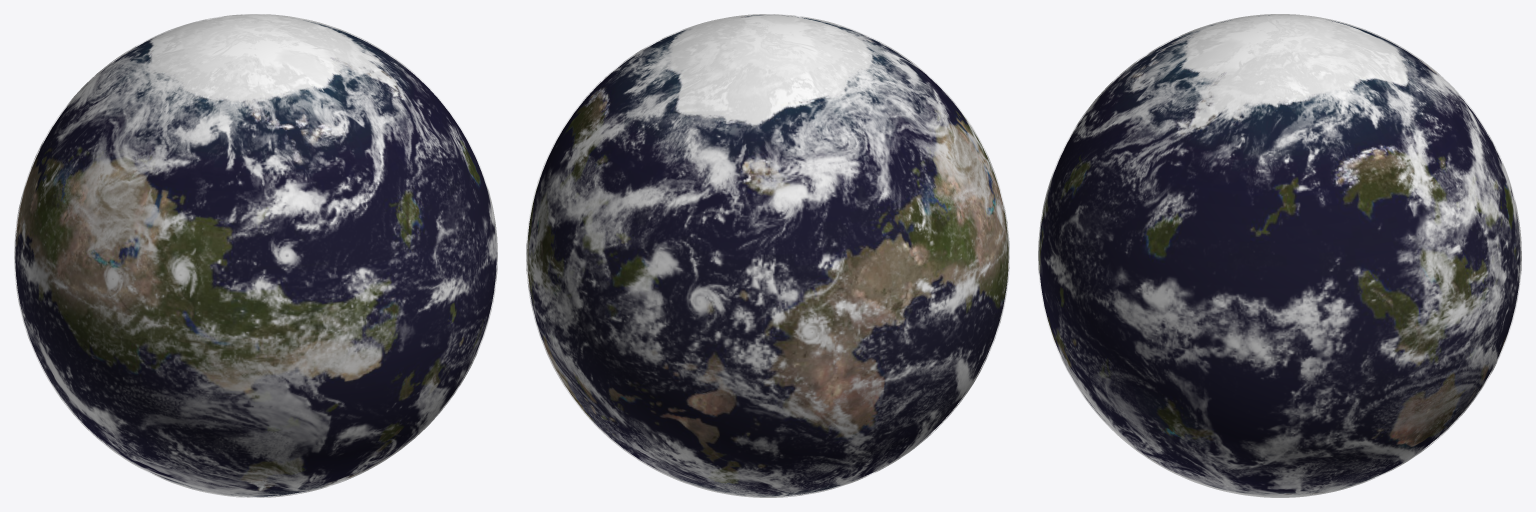
3 renders of one model, left to right at view 1: azimuth 30°, elevation 25°; view 2: azimuth 150°, elevation 25°; view 3: azimuth 270°, elevation 25°, orthographic.
Visible parts, largest first — view 1: Esfera, Esfera_1; view 2: Esfera, Esfera_1; view 3: Esfera, Esfera_1.
Boxes of the visible parts, left/top/right/bottom form: Esfera: left=15, top=15, right=496, bottom=496; Esfera_1: left=14, top=14, right=497, bottom=497; Esfera: left=527, top=15, right=1008, bottom=496; Esfera_1: left=526, top=14, right=1009, bottom=497; Esfera: left=1039, top=15, right=1520, bottom=495; Esfera_1: left=1038, top=14, right=1521, bottom=497.
Size of the model in its own units: 2009 by 2010 by 2009.
2 materials, 2 textured.
